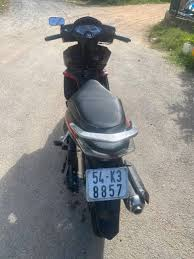Bien-so: (88, 166, 128, 201)
